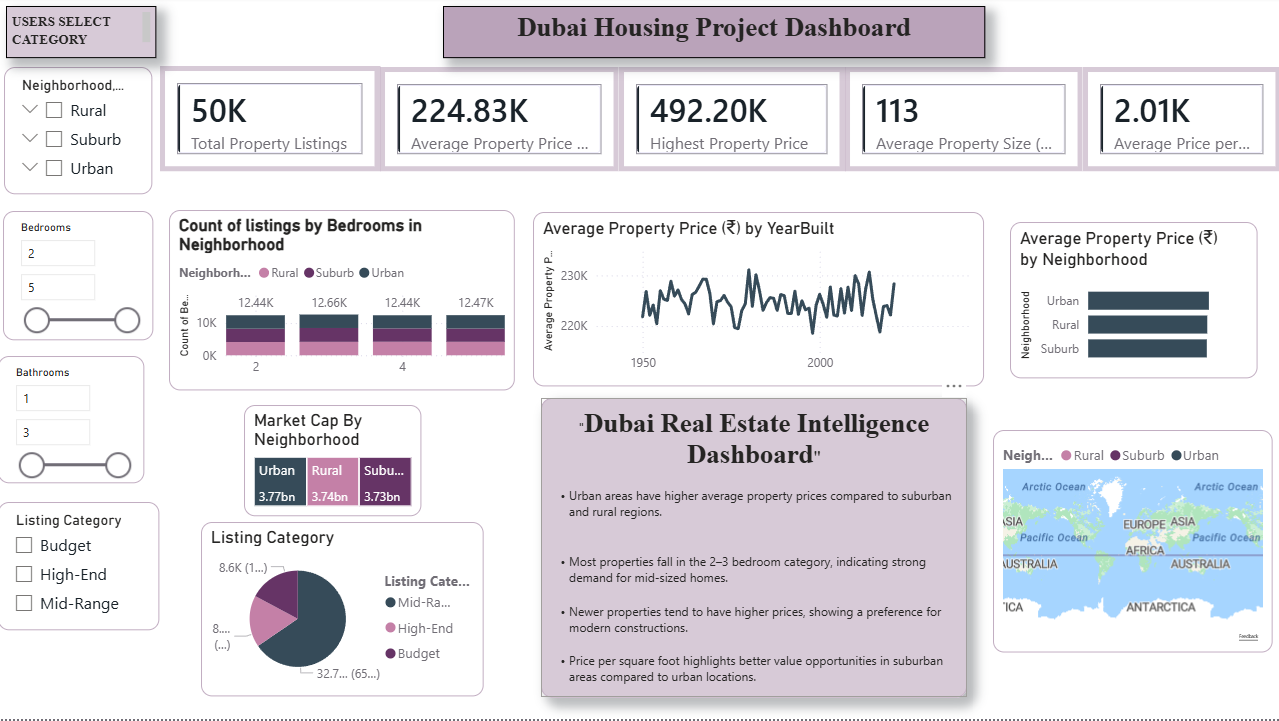

The page's visual inventory and layout, read from the dashboard file:
{"tool":"powerbi","page":{"name":"Page 1","canvas":[1280,720],"ordinal":0},"visuals":[{"type":"cardVisual","fields":{"Data":["housing_price_dataset.Total Listings"]},"box":[161.5,69.1,219.8,105],"z":0},{"type":"cardVisual","fields":{"Data":["housing_price_dataset.Avg Price"]},"box":[381.3,70,238.3,104.1],"z":1000},{"type":"cardVisual","fields":{"Data":["housing_price_dataset.Avg Size"]},"box":[1082.6,70,197.4,104.1],"z":2000},{"type":"cardVisual","fields":{"Data":["housing_price_dataset.Max Price"]},"box":[619.6,70,225.7,104.1],"z":3000},{"type":"cardVisual","fields":{"Data":["housing_price_dataset.Avg PPSF"]},"box":[845.2,70,237.3,104.1],"z":4000},{"type":"clusteredBarChart","fields":{"Y":["housing_price_dataset.Avg Price"],"Category":["housing_price_dataset.Neighborhood"]},"box":[1009.6,224.7,247.1,155.6],"z":5000},{"type":"columnChart","title":" Count of listings by Bedrooms in Neighborhood","fields":{"Category":["housing_price_dataset.Bedrooms"],"Series":["housing_price_dataset.Neighborhood"],"Y":["CountNonNull(housing_price_dataset.Bedrooms)"]},"box":[170.2,212,345.3,179.9],"z":6000},{"type":"lineChart","fields":{"Category":["housing_price_dataset.YearBuilt"],"Y":["housing_price_dataset.Avg Price"]},"box":[534,215,450.3,174.1],"z":7000},{"type":"slicer","fields":{"Values":["housing_price_dataset.Bedrooms"]},"box":[4.9,214,149.8,129.4],"z":8000},{"type":"slicer","fields":{"Values":["housing_price_dataset.Bathrooms"]},"box":[0,357.9,145.9,127.4],"z":9000},{"type":"slicer","fields":{"Values":["housing_price_dataset.Neighborhood","housing_price_dataset.Price"]},"box":[5.8,70,147.8,127.4],"z":10000},{"type":"treemap","title":"Market Cap By Neighborhood","fields":{"Group":["housing_price_dataset.Neighborhood"],"Values":["Sum(housing_price_dataset.Price)"]},"box":[245.1,406.6,177,110.9],"z":11000},{"type":"textbox","box":[541.8,399.8,425,298.6],"z":12000},{"type":"azureMap","fields":{"Series":["housing_price_dataset.Neighborhood"]},"box":[993.1,431.9,279.1,221.8],"z":13000},{"type":"pieChart","title":" Listing Category","fields":{"Category":["housing_price_dataset.Listing Category"],"Y":["CountNonNull(housing_price_dataset.Listing Category)"]},"box":[202.3,524.3,282.1,174.1],"z":14000},{"type":"slicer","fields":{"Values":["housing_price_dataset.Listing Category"]},"box":[0,503.8,161.5,128.4],"z":15000},{"type":"textbox","box":[443.5,8.8,540.8,51.6],"z":16000},{"type":"textbox","box":[7.8,8.8,149.8,51.6],"z":17000}]}

Visuals, with their boxes in screenshot pixels (x1, y1, x2, y2), scaled from the page's 1280x720 canvas onto the 1279x721 screenshot:
cardVisual - housing_price_dataset.Total Listings: 161:69:381:174
cardVisual - housing_price_dataset.Avg Price: 381:70:619:174
cardVisual - housing_price_dataset.Avg Size: 1082:70:1278:174
cardVisual - housing_price_dataset.Max Price: 619:70:845:174
cardVisual - housing_price_dataset.Avg PPSF: 845:70:1082:174
clusteredBarChart - housing_price_dataset.Avg Price x housing_price_dataset.Neighborhood: 1009:225:1256:381
" Count of listings by Bedrooms in Neighborhood" columnChart: 170:212:515:392
lineChart - housing_price_dataset.YearBuilt x housing_price_dataset.Avg Price: 534:215:984:390
slicer - housing_price_dataset.Bedrooms: 5:214:155:344
slicer - housing_price_dataset.Bathrooms: 0:358:146:486
slicer - housing_price_dataset.Neighborhood x housing_price_dataset.Price: 6:70:153:198
"Market Cap By Neighborhood" treemap: 245:407:422:518
textbox: 541:400:966:699
azureMap - housing_price_dataset.Neighborhood: 992:432:1271:655
" Listing Category" pieChart: 202:525:484:699
slicer - housing_price_dataset.Listing Category: 0:504:161:633
textbox: 443:9:984:60
textbox: 8:9:157:60
